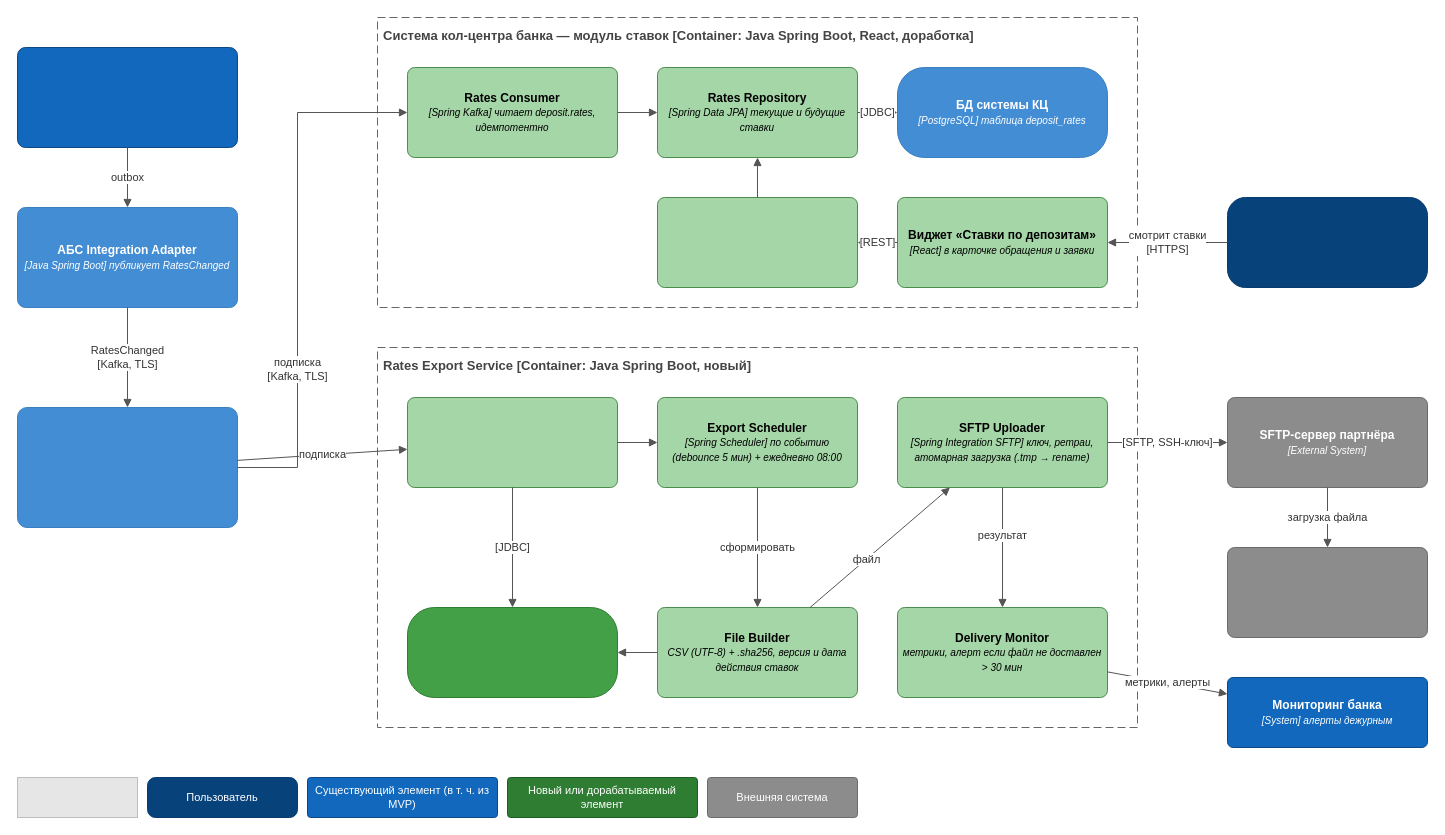
This 1445x835 diagram has some shape labels left out. Here are the shapes that lost their labels. From the top down, the box of each, then its label:
(16, 46, 238, 148): АБС: модуль ставок [Oracle, PL/SQL] утверждённые ставки, outbox
(656, 196, 858, 288): Rates API [Spring REST] GET /rates
(1226, 196, 1428, 288): Оператор КЦ банка [Person]
(406, 396, 618, 488): Rates Consumer [Spring Kafka] сохраняет снимок ставок
(16, 406, 238, 528): Apache Kafka топик deposit.rates (compacted: последнее значение по продукту)
(1226, 546, 1428, 638): Система партнёрского КЦ [External System]
(406, 606, 618, 698): Snapshot & Audit DB [PostgreSQL] версии ставок, журнал выгрузок
(16, 776, 138, 818): Легенда
